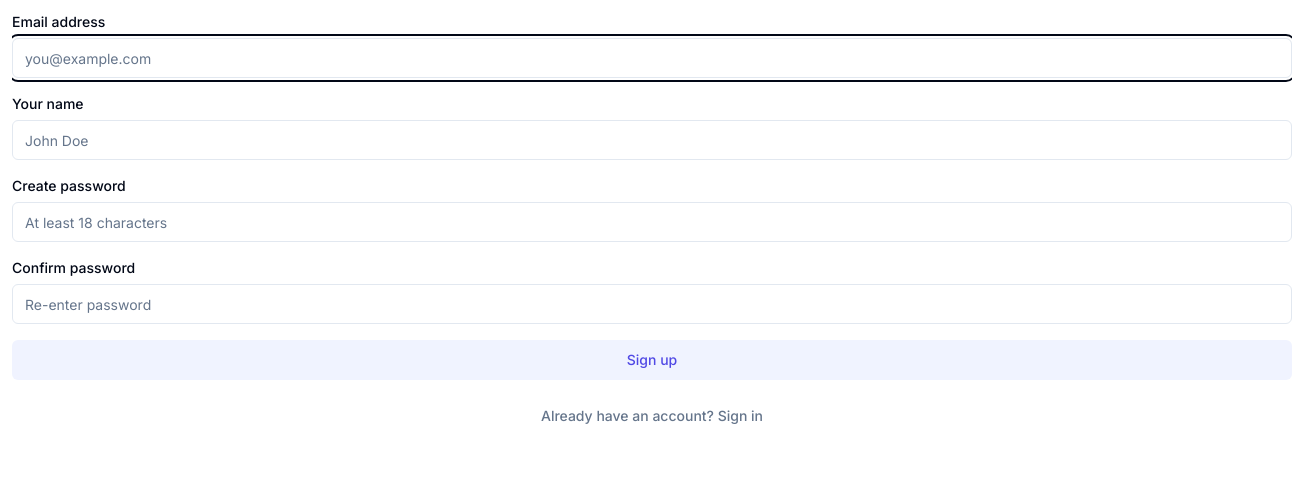
EmailPasswordAuthForm › Accessibility › shows error with alert role
Type "test@example.com" into the field labelled "Email address".
click(652, 58); type("test@example.com")  # box x1=12 y1=38 x2=1292 y2=78
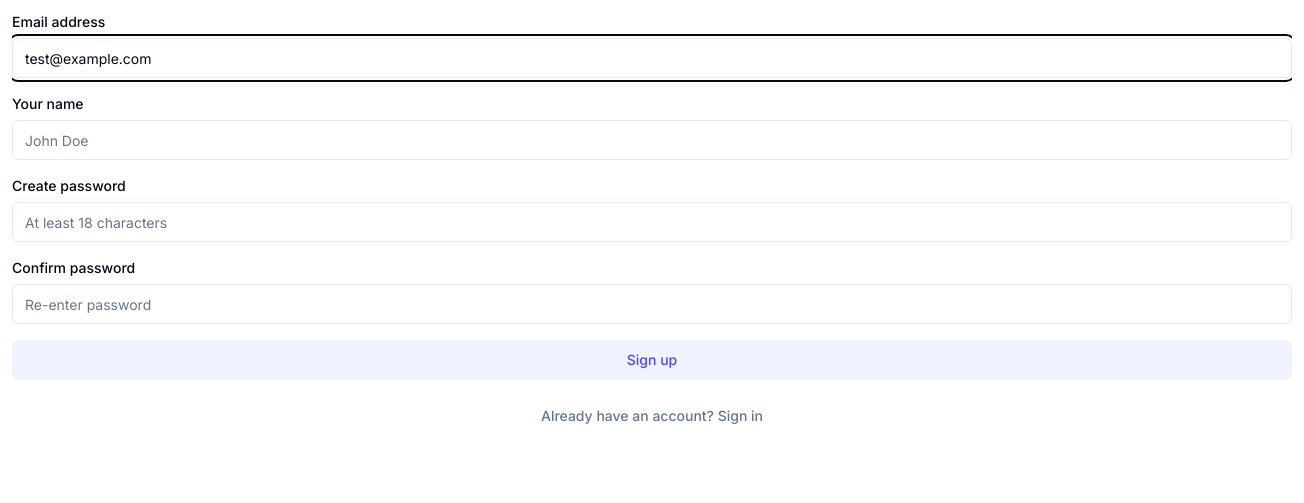
Type "Test User" into the field labelled "Your name".
click(652, 140); type("Test User")  # box x1=12 y1=120 x2=1292 y2=160
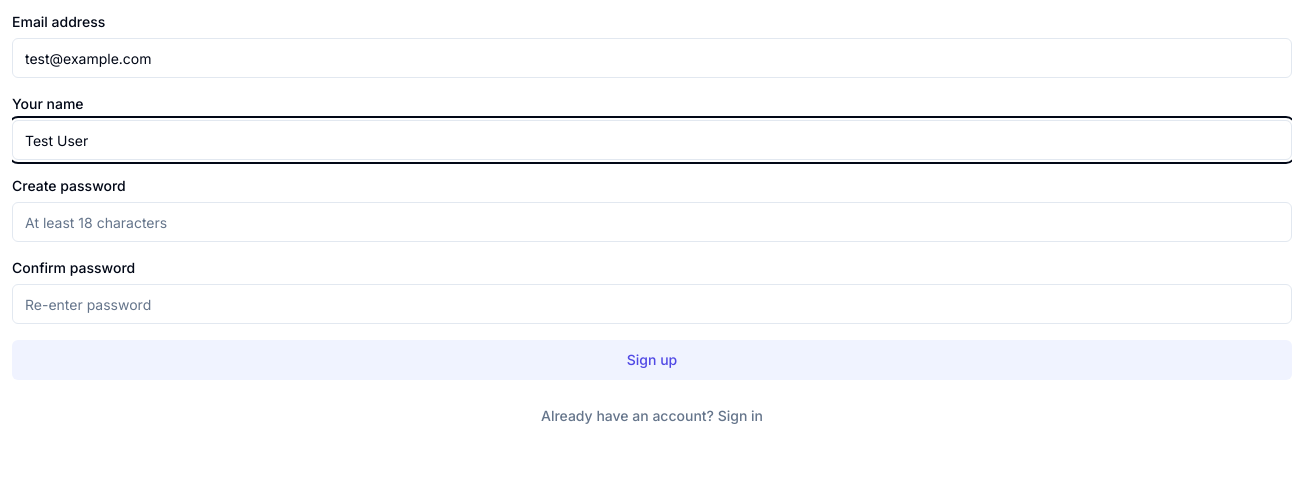
Type "password1" into the password field labelled "Create password".
click(652, 222); type("password1")  # box x1=12 y1=202 x2=1292 y2=242
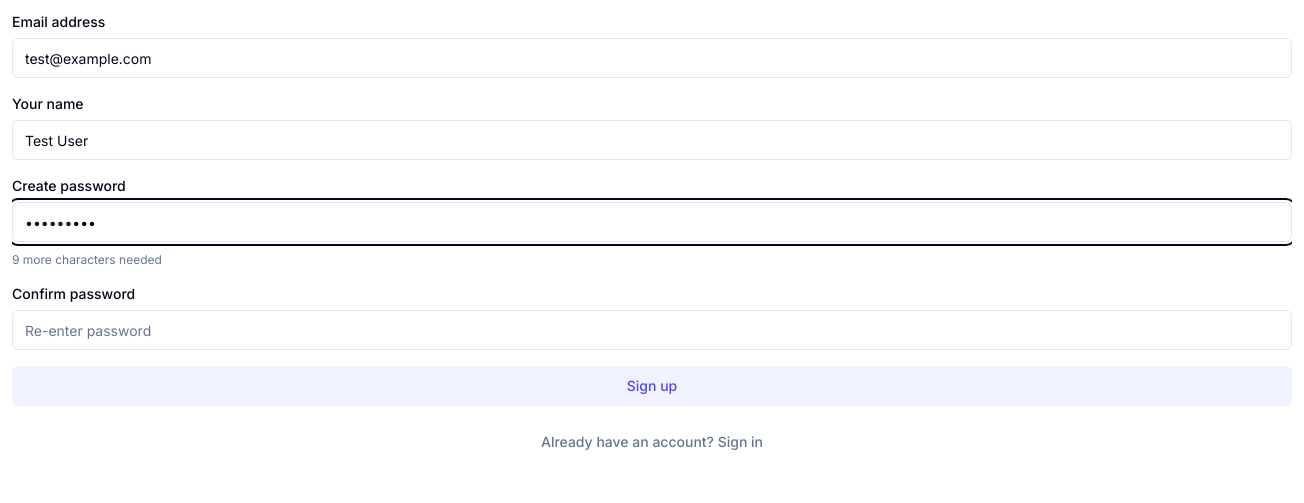
Type "password2" into the password field labelled "Confirm password".
click(652, 330); type("password2")  # box x1=12 y1=310 x2=1292 y2=350
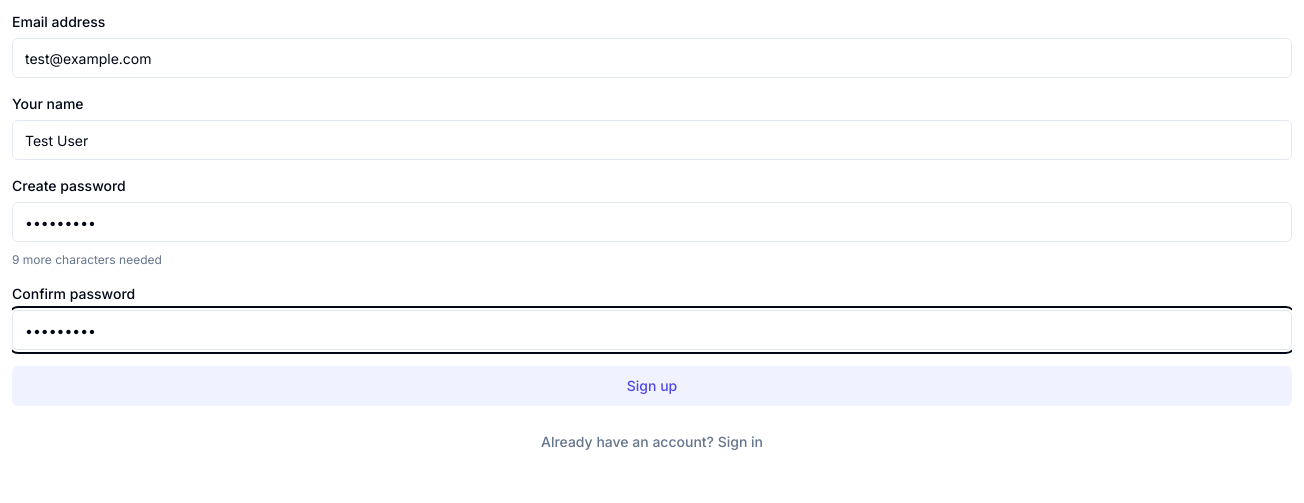
Click the button "Sign up".
click(652, 386)  # box x1=12 y1=366 x2=1292 y2=406
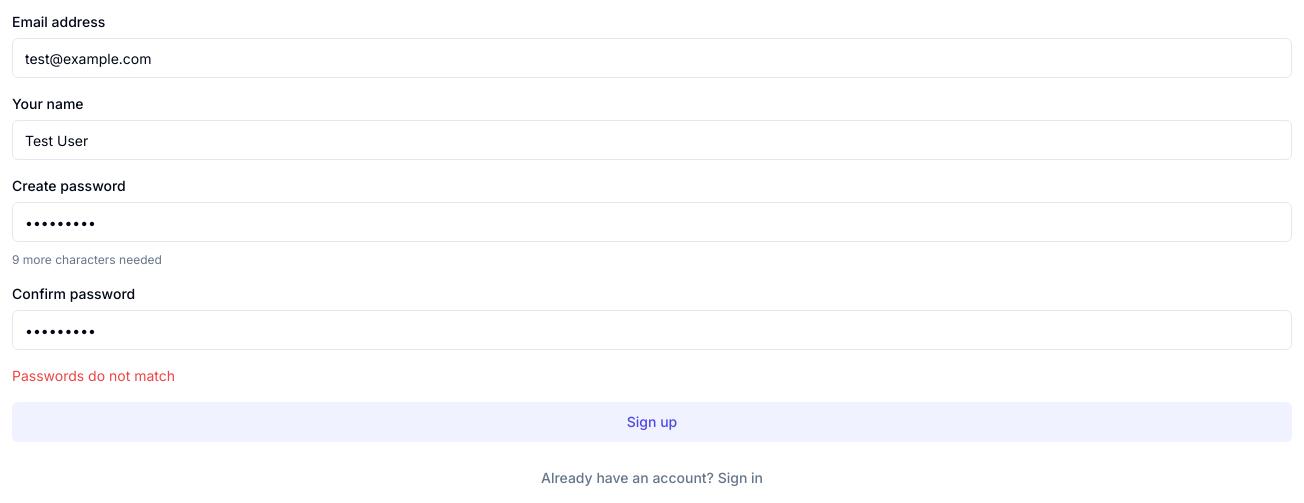
Check: the message reads "Passwords do not match", box x1=12 y1=367 x2=175 y2=384
